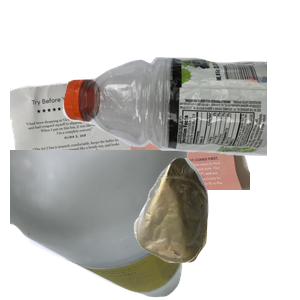glass: (10, 150, 190, 300)
paper: (10, 61, 250, 241)
plastic: (60, 53, 300, 201)
trash: (131, 155, 300, 300)
